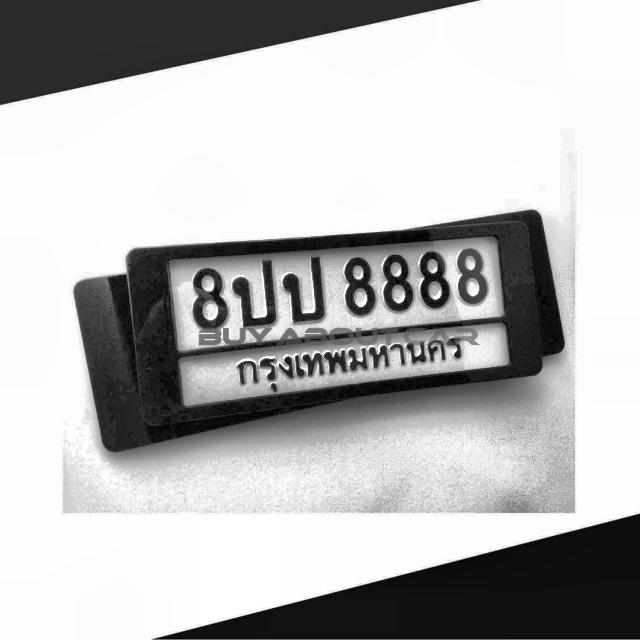license-plate: (114, 216, 544, 410)
